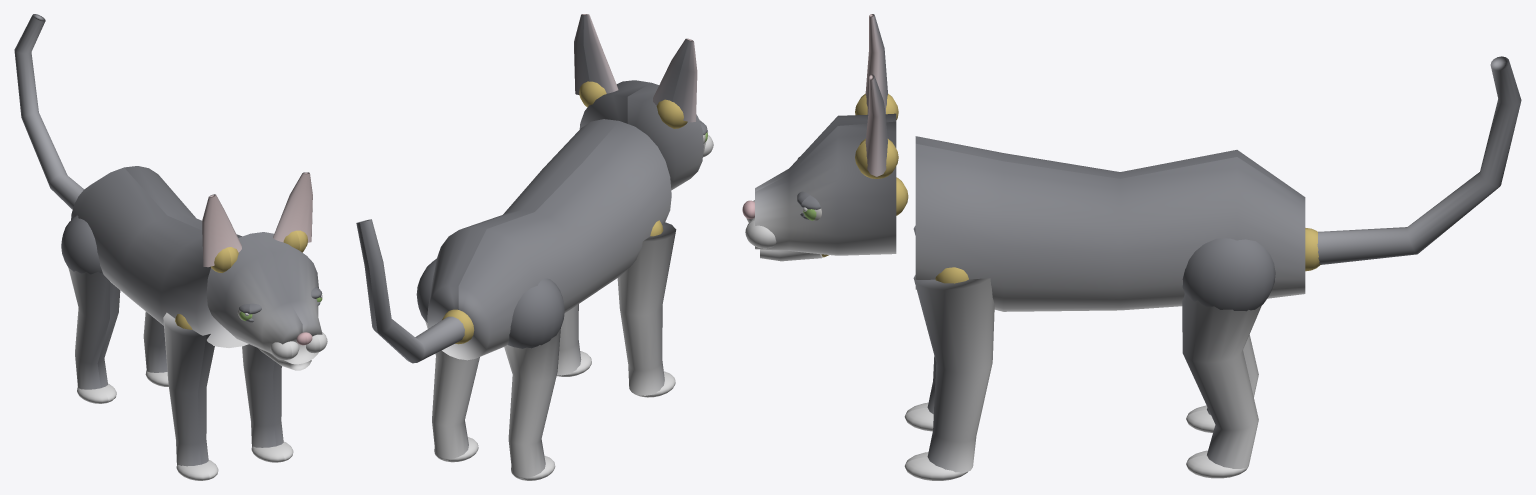
Rendered from cat.glb.
3 views of the same model, side by side, from view 1: azimuth 30°, elevation 25°; view 2: azimuth 150°, elevation 25°; view 3: azimuth 270°, elevation 25° (orthographic). The views are drawn at different scales.
Parts seen in each view (by area): view 1: Body, Head, Leg_RL, Leg_FL, Leg_FR, Tail, Ear_L, Ear_R, Leg_RR; view 2: Body, Leg_RL, Leg_FL, Head, Tail, Leg_RR, Ear_L, Ear_R, Leg_FR; view 3: Body, Leg_RR, Head, Leg_FR, Tail, Ear_R, Ear_L, Leg_RL, Leg_FL.
Part boxes in pixels (x1,y1,x2,y2): Body: (71, 166, 248, 347); Head: (206, 232, 327, 364); Leg_RL: (61, 215, 120, 403); Leg_FL: (163, 312, 218, 480); Leg_FR: (242, 344, 293, 462); Tail: (14, 14, 83, 209); Ear_L: (202, 194, 241, 272); Ear_R: (273, 172, 312, 252); Leg_RR: (143, 311, 168, 386); Body: (427, 119, 671, 360); Leg_RL: (504, 278, 564, 480); Leg_FL: (617, 220, 676, 397); Head: (579, 80, 713, 190); Tail: (356, 219, 474, 363); Leg_RR: (416, 259, 479, 462); Ear_L: (653, 38, 697, 128); Ear_R: (574, 14, 618, 107); Leg_FR: (556, 304, 591, 376); Body: (915, 136, 1305, 311); Leg_RR: (1182, 238, 1275, 478); Head: (742, 113, 908, 255); Leg_FR: (904, 267, 994, 480); Tail: (1305, 56, 1521, 271); Ear_R: (855, 74, 898, 178); Ear_L: (855, 14, 898, 119); Leg_RL: (1186, 334, 1258, 432); Leg_FL: (904, 225, 936, 431).
Size of the model in its own units: 0.3874 by 0.9189 by 1.6.
